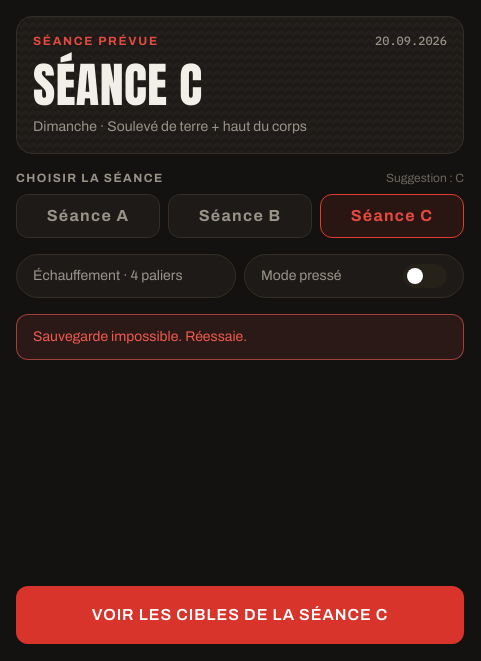
SessionLanding › rend une erreur d’écriture sans quitter l’accueil
The width and height of the screenshot is (481, 661).
Click the button "Voir les cibles de la séance C".
click(240, 615)  # box [16,586,464,644]
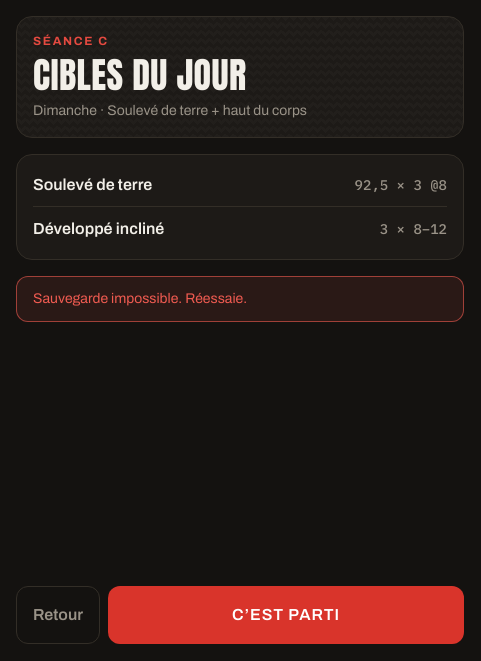
Expected: the message reads "Sauvegarde impossible. Réessaie.", [33,291,247,306]
Result: the button "C’est parti" is shown at [108,586,464,644]
